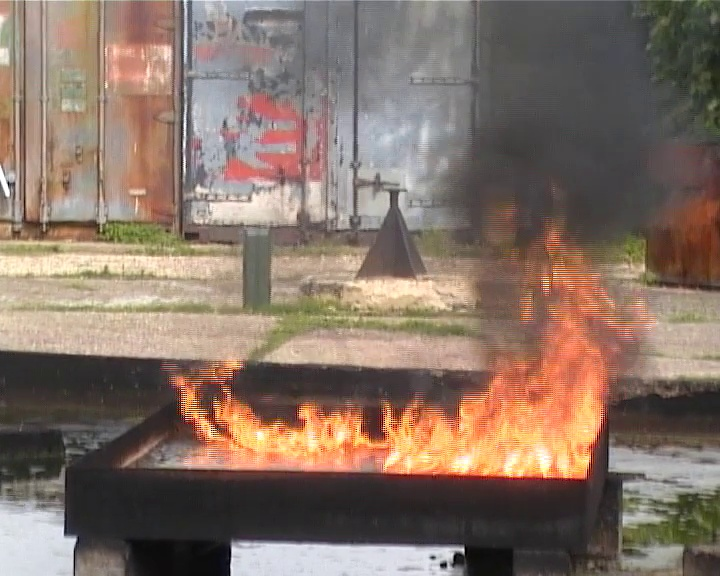fire: (176, 235, 618, 475)
